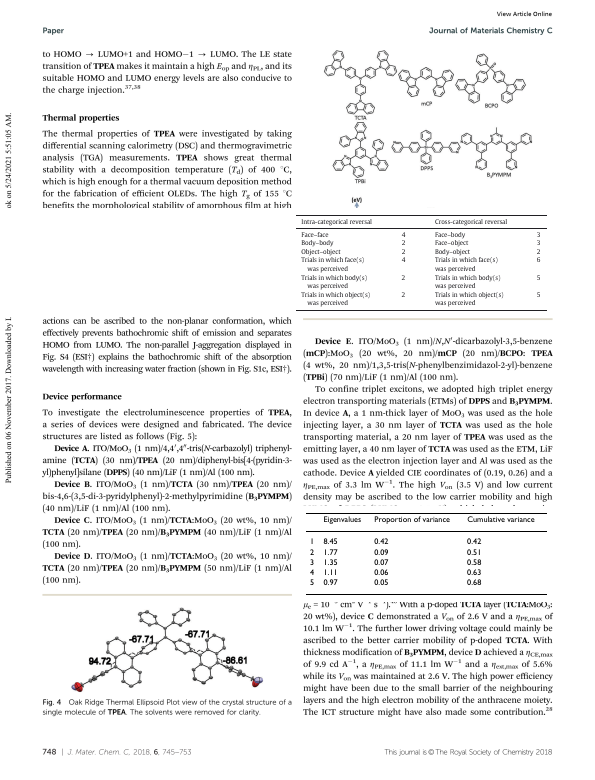borderless: (295, 213, 547, 310), (305, 511, 547, 595)
cell: (300, 291, 371, 308), (434, 291, 505, 308), (300, 273, 368, 290), (434, 273, 502, 290), (300, 256, 365, 273), (434, 256, 499, 273), (373, 515, 450, 525), (466, 515, 535, 525), (434, 218, 508, 226), (300, 218, 373, 226), (322, 515, 362, 525), (300, 248, 342, 256), (300, 239, 335, 248), (434, 239, 469, 248), (434, 248, 471, 256), (434, 231, 466, 239), (300, 231, 330, 239), (322, 548, 338, 558), (373, 548, 389, 558), (466, 548, 482, 558), (322, 558, 338, 568), (373, 558, 389, 568), (466, 558, 482, 568), (322, 568, 338, 578), (373, 568, 389, 578), (466, 568, 482, 578), (322, 538, 338, 547), (373, 538, 389, 547), (466, 538, 482, 547), (322, 579, 338, 588), (373, 579, 389, 588), (466, 579, 482, 588), (308, 548, 315, 558), (308, 558, 315, 568), (308, 568, 315, 578), (308, 538, 315, 547), (308, 579, 315, 588), (536, 239, 542, 248), (536, 256, 542, 265), (536, 273, 542, 282), (536, 231, 542, 239), (536, 248, 542, 256), (536, 291, 542, 299), (401, 239, 406, 248), (401, 256, 406, 265), (401, 273, 406, 282), (401, 231, 406, 239), (401, 248, 406, 256), (401, 291, 406, 299)
